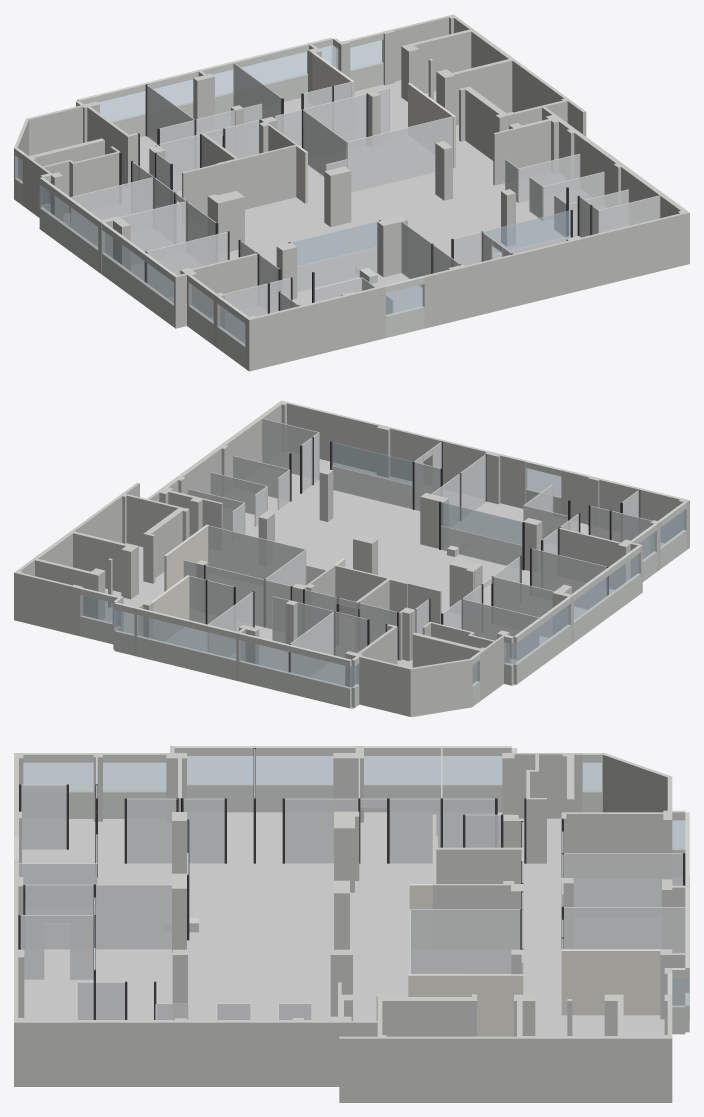
File: 11-posts-closed.glb
3 renders of one model, top to bottom at view 1: azimuth 30°, elevation 25°; view 2: azimuth 150°, elevation 25°; view 3: azimuth 270°, elevation 25°, orthographic. The views are drawn at different scales.
Visible parts, largest first — view 1: Floor4_11-posts-closed_concrete_Blocking, Floor4_11-posts-closed_frosted_Blocking, Floor4_11-posts-closed_Floor, Floor4_11-posts-closed_glass_Blocking, Floor4_11-posts-closed_wall_Blocking, Floor4_11-posts-closed_partition_Blocking, Floor4_11-posts-closed_aluminum_Blocking; view 2: Floor4_11-posts-closed_concrete_Blocking, Floor4_11-posts-closed_frosted_Blocking, Floor4_11-posts-closed_Floor, Floor4_11-posts-closed_wall_Blocking, Floor4_11-posts-closed_glass_Blocking, Floor4_11-posts-closed_partition_Blocking, Floor4_11-posts-closed_aluminum_Blocking; view 3: Floor4_11-posts-closed_concrete_Blocking, Floor4_11-posts-closed_Floor, Floor4_11-posts-closed_frosted_Blocking, Floor4_11-posts-closed_wall_Blocking, Floor4_11-posts-closed_glass_Blocking, Floor4_11-posts-closed_partition_Blocking, Floor4_11-posts-closed_aluminum_Blocking.
Boxes of the visible parts, x1=… form: Floor4_11-posts-closed_concrete_Blocking: x1=14, y1=14, x2=689, y2=371; Floor4_11-posts-closed_frosted_Blocking: x1=70, y1=63, x2=660, y2=340; Floor4_11-posts-closed_Floor: x1=39, y1=80, x2=563, y2=343; Floor4_11-posts-closed_glass_Blocking: x1=15, y1=40, x2=570, y2=346; Floor4_11-posts-closed_wall_Blocking: x1=15, y1=32, x2=424, y2=368; Floor4_11-posts-closed_partition_Blocking: x1=296, y1=53, x2=455, y2=203; Floor4_11-posts-closed_aluminum_Blocking: x1=119, y1=84, x2=592, y2=313; Floor4_11-posts-closed_concrete_Blocking: x1=14, y1=400, x2=689, y2=716; Floor4_11-posts-closed_frosted_Blocking: x1=183, y1=418, x2=652, y2=676; Floor4_11-posts-closed_Floor: x1=103, y1=459, x2=664, y2=717; Floor4_11-posts-closed_wall_Blocking: x1=80, y1=460, x2=686, y2=708; Floor4_11-posts-closed_glass_Blocking: x1=80, y1=442, x2=686, y2=688; Floor4_11-posts-closed_partition_Blocking: x1=151, y1=524, x2=345, y2=641; Floor4_11-posts-closed_aluminum_Blocking: x1=204, y1=437, x2=640, y2=672; Floor4_11-posts-closed_concrete_Blocking: x1=14, y1=746, x2=689, y2=1102; Floor4_11-posts-closed_Floor: x1=22, y1=812, x2=689, y2=1036; Floor4_11-posts-closed_frosted_Blocking: x1=19, y1=748, x2=685, y2=1019; Floor4_11-posts-closed_wall_Blocking: x1=14, y1=746, x2=689, y2=1034; Floor4_11-posts-closed_glass_Blocking: x1=23, y1=756, x2=689, y2=1007; Floor4_11-posts-closed_partition_Blocking: x1=408, y1=884, x2=660, y2=1036; Floor4_11-posts-closed_aluminum_Blocking: x1=18, y1=748, x2=685, y2=1019.
Bounding box in the file's own units: 23.41 × 2.4 × 22.85.
